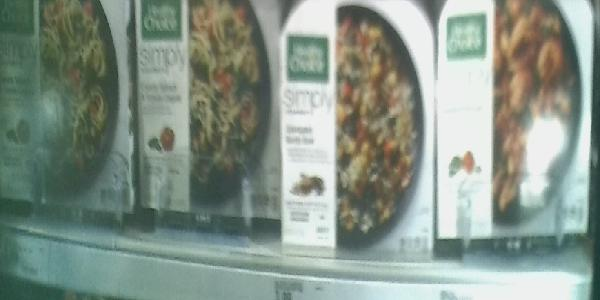pizza1: (282, 1, 435, 256), (439, 1, 594, 244), (137, 1, 279, 221), (2, 1, 140, 215)
